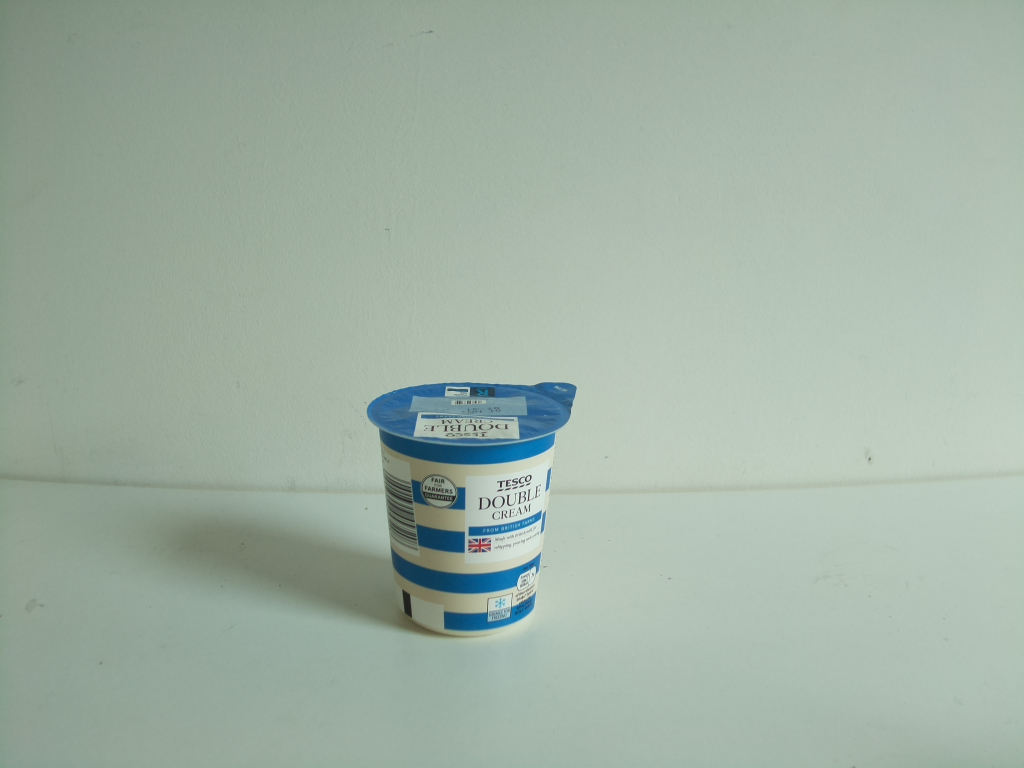cream: (368, 377, 580, 640)
